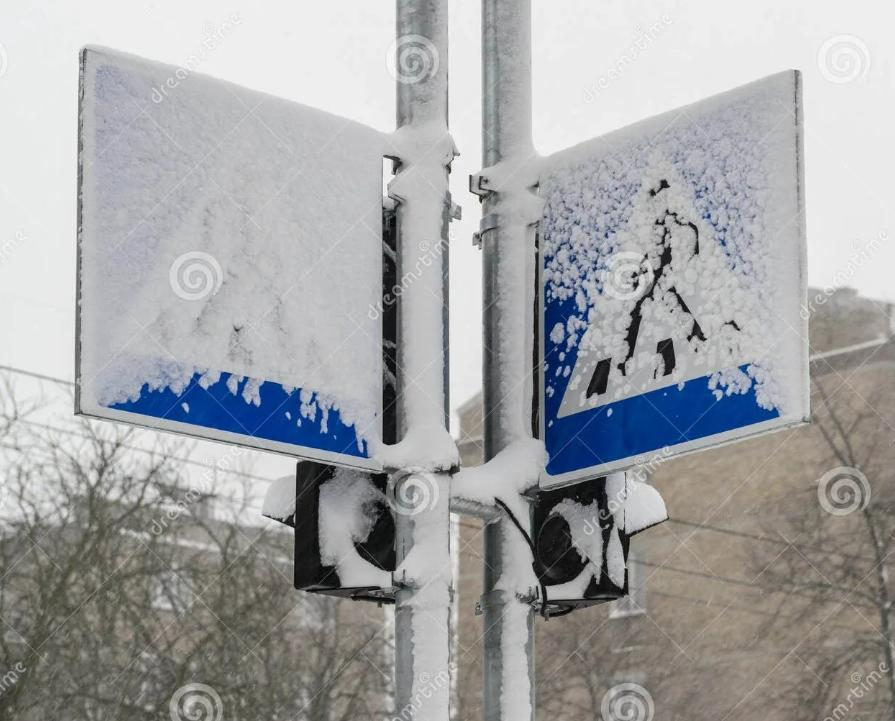obstructed_road_sign: (76, 46, 389, 471), (530, 71, 809, 487)
